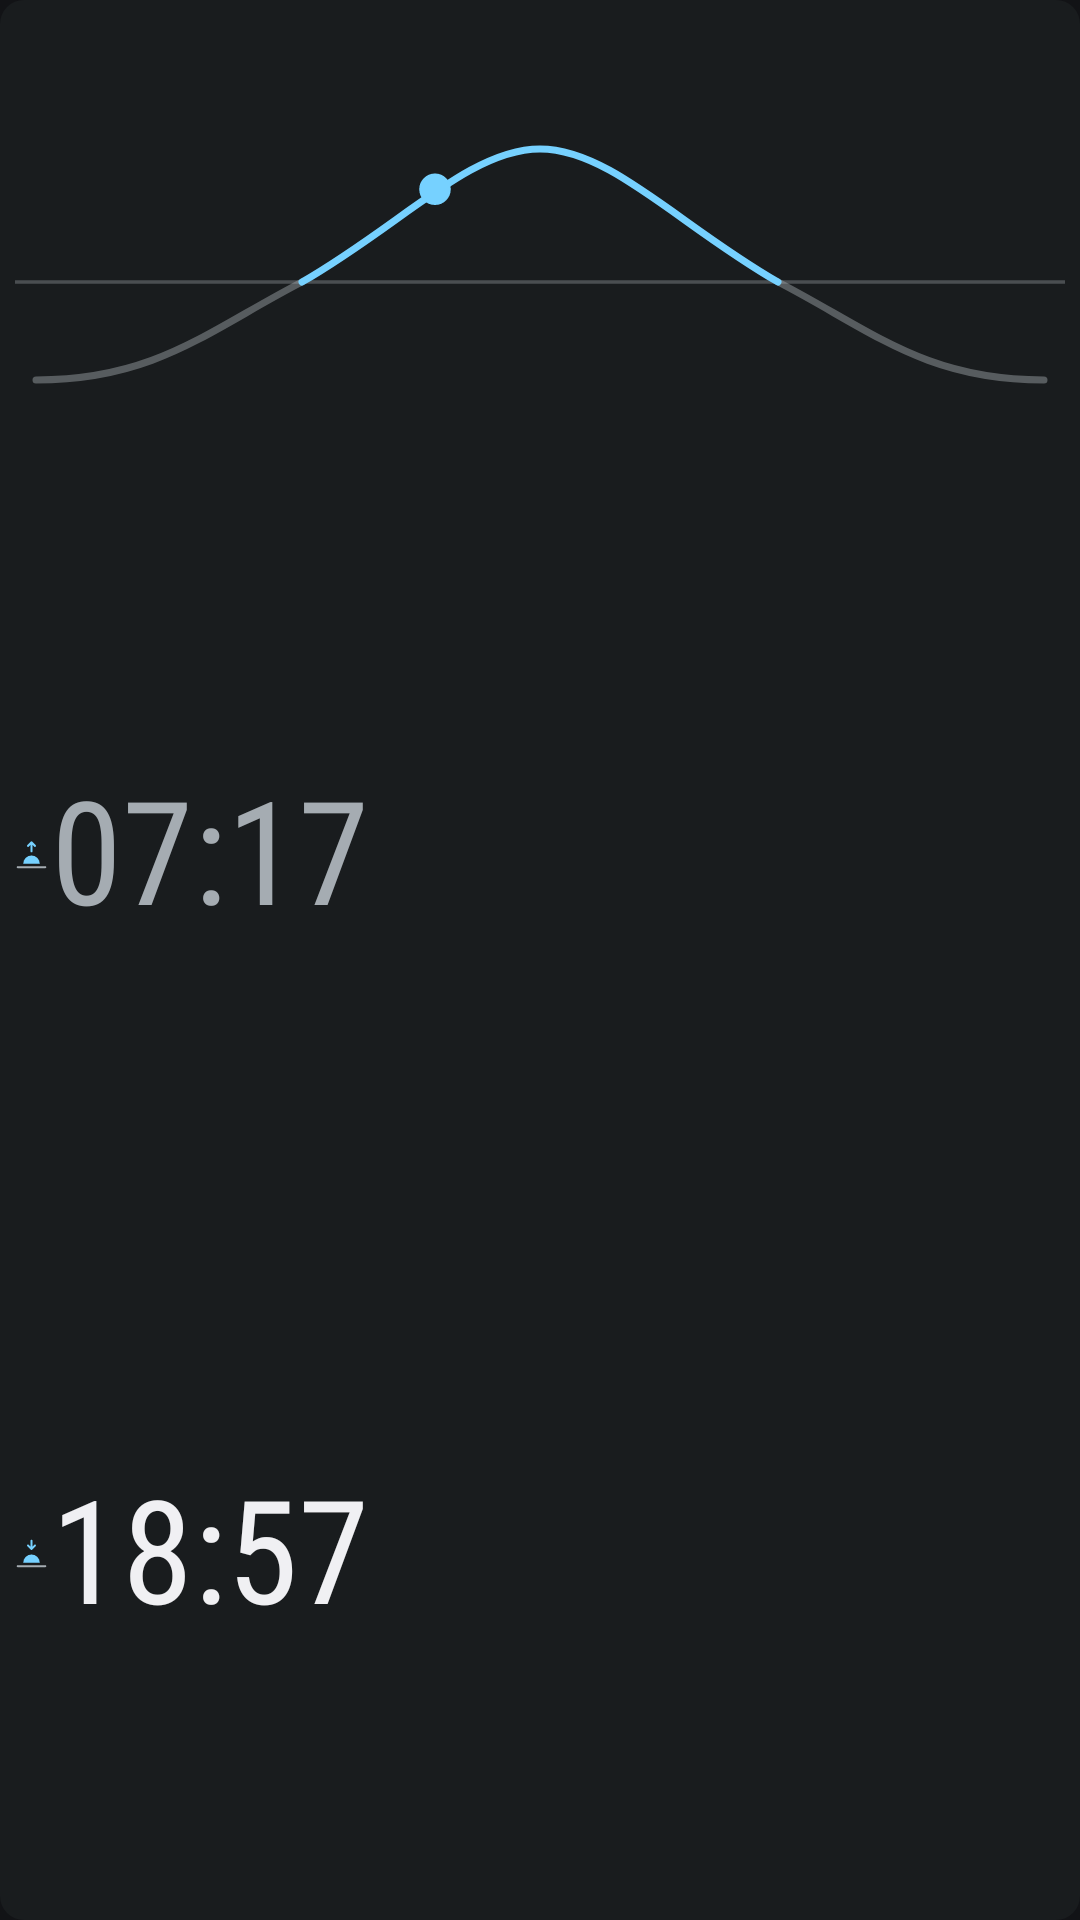

Screen size 1080w x 1920h. Icon name, then its box in pixels as bbox=[x1, y1, x2, y2]:
sunrise: bbox=[16, 841, 47, 869]
sunset: bbox=[16, 1539, 47, 1568]
